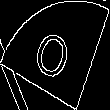O_SW: (31, 22, 79, 88)
